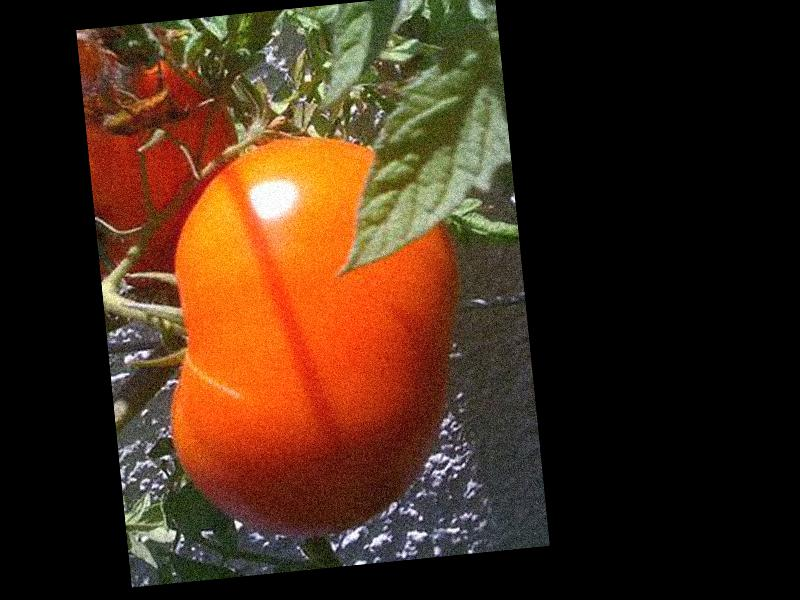Tomato: (143, 122, 480, 548)
